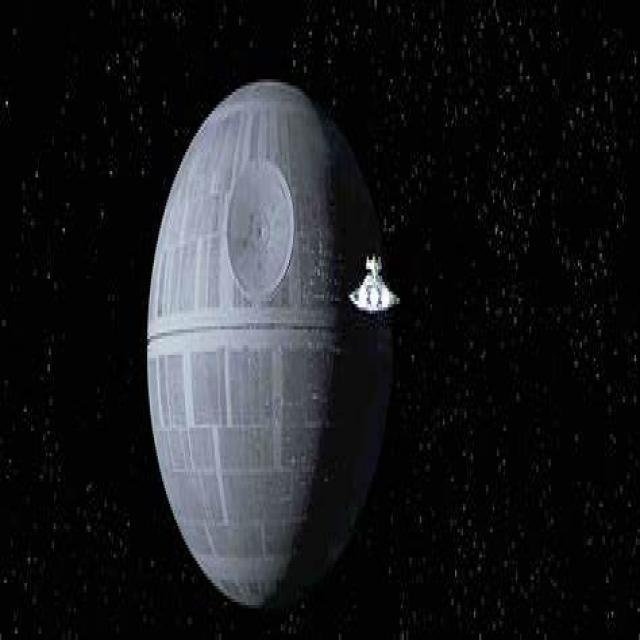deathStar: (147, 74, 380, 618)
